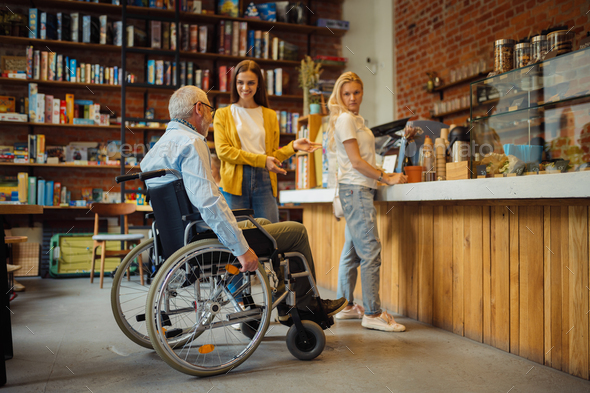wheelchair: (110, 85, 347, 376)
